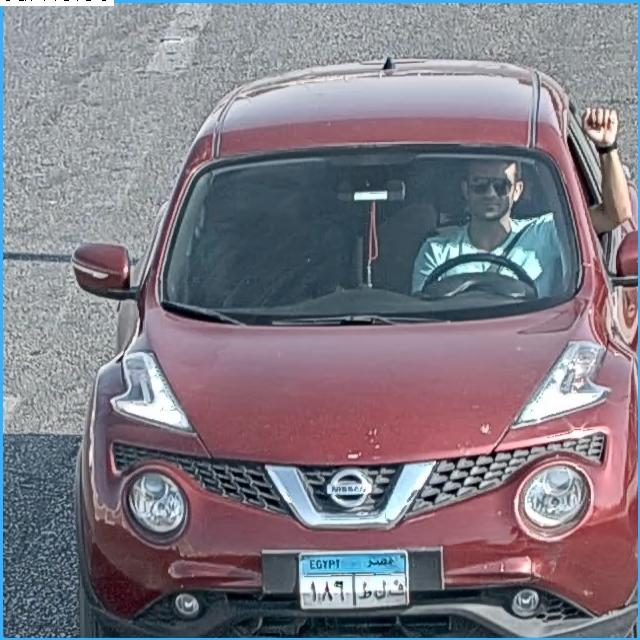windshield: (157, 154, 589, 320)
